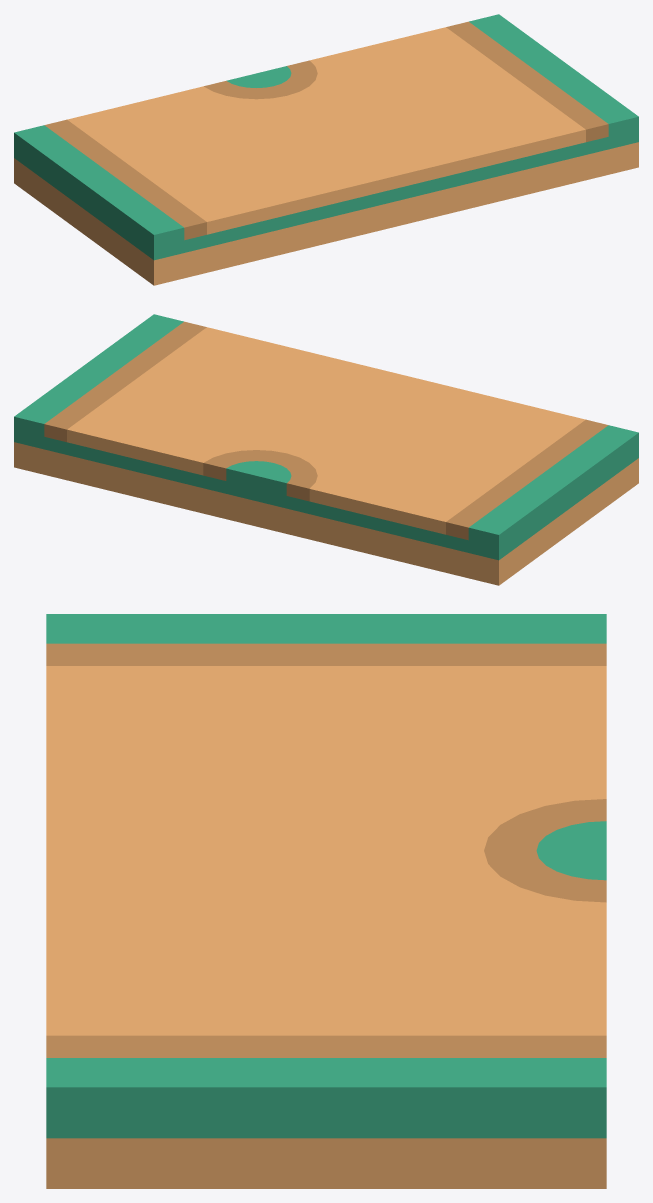
File: tile_wideSplit(+).fbx
The picture shows the model from 3 angles, top to bottom: view 1: azimuth 30°, elevation 25°; view 2: azimuth 150°, elevation 25°; view 3: azimuth 270°, elevation 25°; orthographic projection. The views are drawn at different scales.
Visible parts, largest first — view 1: Mesh_0; view 2: Mesh_0; view 3: Mesh_0.
Part boxes in pixels (x1=…): Mesh_0: x1=14, y1=14, x2=638, y2=285; Mesh_0: x1=14, y1=314, x2=638, y2=585; Mesh_0: x1=46, y1=614, x2=606, y2=1188.
Bounding box in the file's own units: 200 × 20 × 100.
